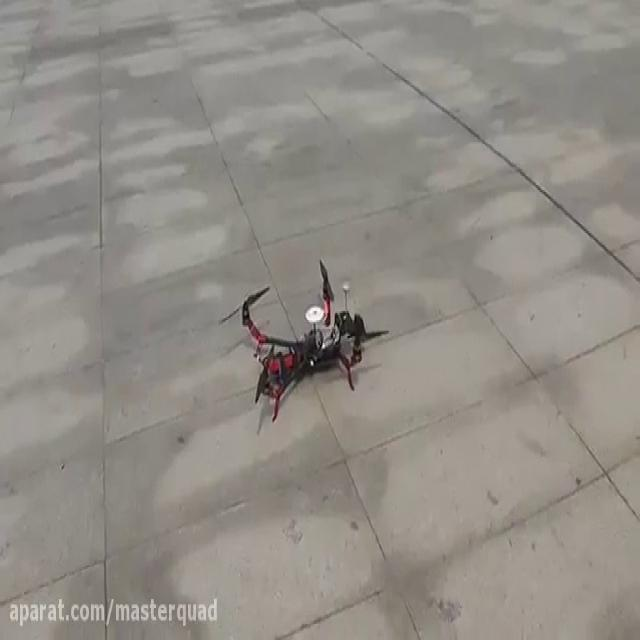drone: (217, 254, 390, 423)
